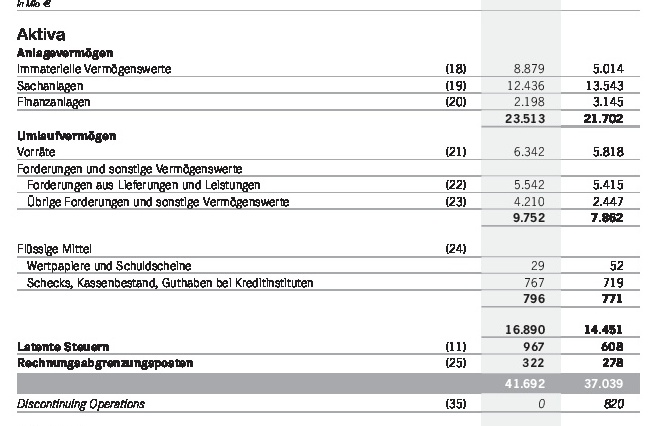table: (0, 0, 656, 426)
